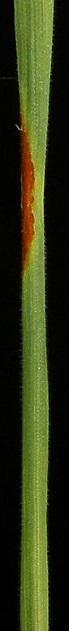Wheat: (17, 134, 35, 262)
